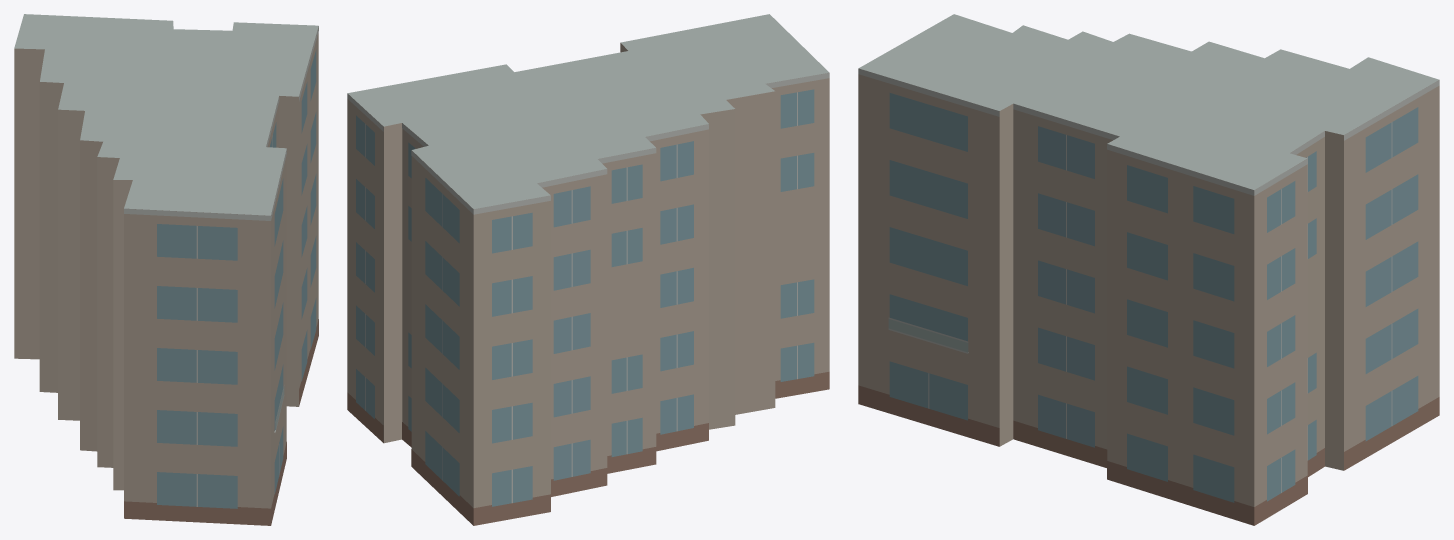
File: survey-upis-32635365.glb
The picture shows the model from 3 angles, left to right: view 1: azimuth 30°, elevation 25°; view 2: azimuth 150°, elevation 25°; view 3: azimuth 270°, elevation 25°; orthographic projection. The views are drawn at different scales.
Parts seen in each view (by area): view 1: survey-upis-32635365.tmp; view 2: survey-upis-32635365.tmp; view 3: survey-upis-32635365.tmp.
Boxes of the visible parts, x1,y1,x2,y2 form: survey-upis-32635365.tmp: (14,14,318,525); survey-upis-32635365.tmp: (347,14,829,525); survey-upis-32635365.tmp: (858,14,1439,525).
Bounding box in the file's own units: 15.99 × 14.2 × 22.29.
